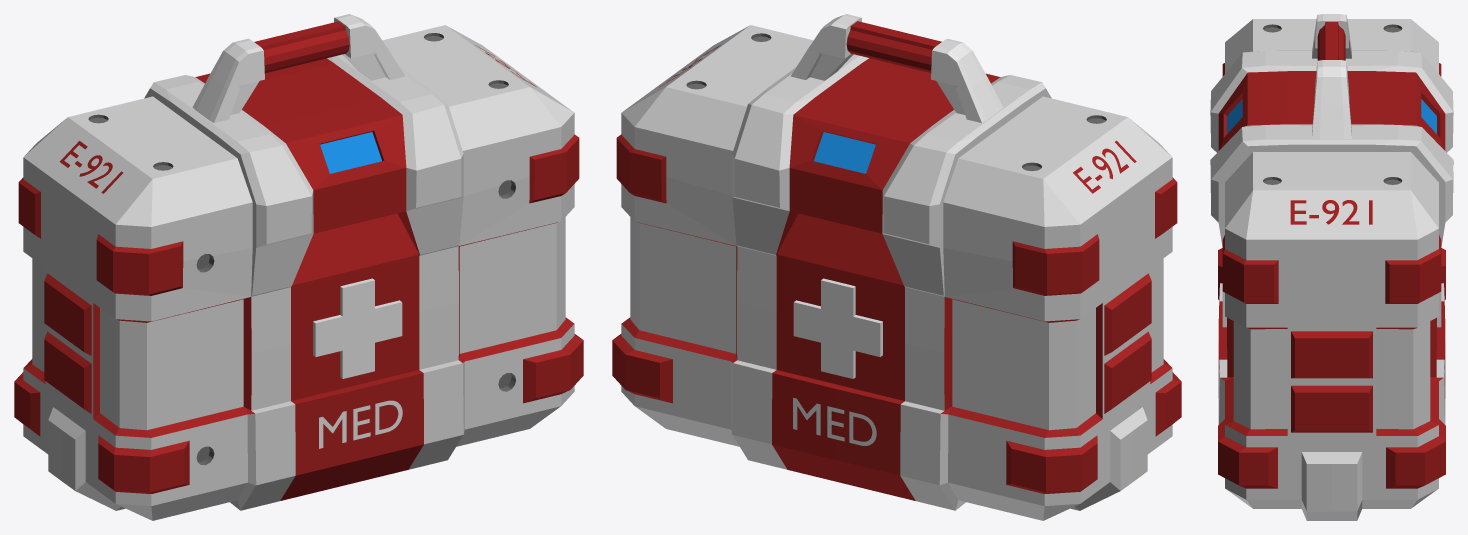
File: Trousse_de_soin_2.fbx
3 views of the same model, side by side, from view 1: azimuth 30°, elevation 25°; view 2: azimuth 150°, elevation 25°; view 3: azimuth 270°, elevation 25° (orthographic). The views are drawn at different scales.
Parts seen in each view (by area): view 1: Trousse_de_soin, Poignée_Support, Croix, Poignée, MED, E-921.001; view 2: Trousse_de_soin, Poignée_Support, Croix, Poignée, MED.001, E-921.001; view 3: Trousse_de_soin, Poignée_Support, Poignée, E-921.
Boxes of the visible parts, left/top/right/bottom form: Trousse_de_soin: left=14, top=25, right=583, bottom=520; Poignée_Support: left=192, top=14, right=405, bottom=122; Croix: left=313, top=278, right=402, bottom=378; Poignée: left=254, top=21, right=349, bottom=73; MED: left=319, top=400, right=402, bottom=448; E-921.001: left=60, top=141, right=123, bottom=193; Trousse_de_soin: left=612, top=25, right=1181, bottom=520; Poignée_Support: left=790, top=14, right=1003, bottom=122; Croix: left=793, top=278, right=882, bottom=378; Poignée: left=846, top=21, right=941, bottom=72; MED.001: left=793, top=397, right=876, bottom=445; E-921.001: left=1073, top=140, right=1136, bottom=193; Trousse_de_soin: left=1210, top=19, right=1453, bottom=520; Poignée_Support: left=1312, top=14, right=1351, bottom=138; Poignée: left=1317, top=22, right=1345, bottom=60; E-921: left=1290, top=200, right=1372, bottom=224.
Bounding box in the file's own units: 0.5697 × 0.4812 × 0.2709.
